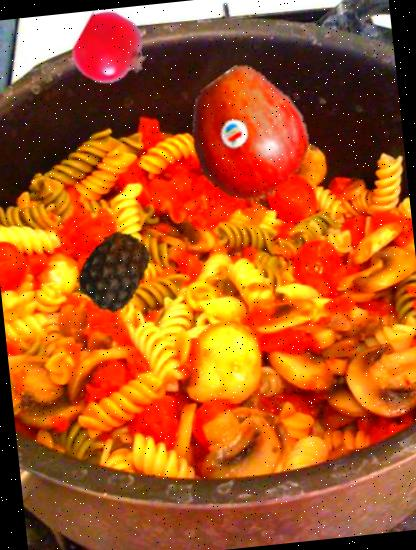Apple: (176, 66, 317, 207)
Pineapple: (66, 224, 160, 320)
Redcurrant: (72, 10, 152, 90)
